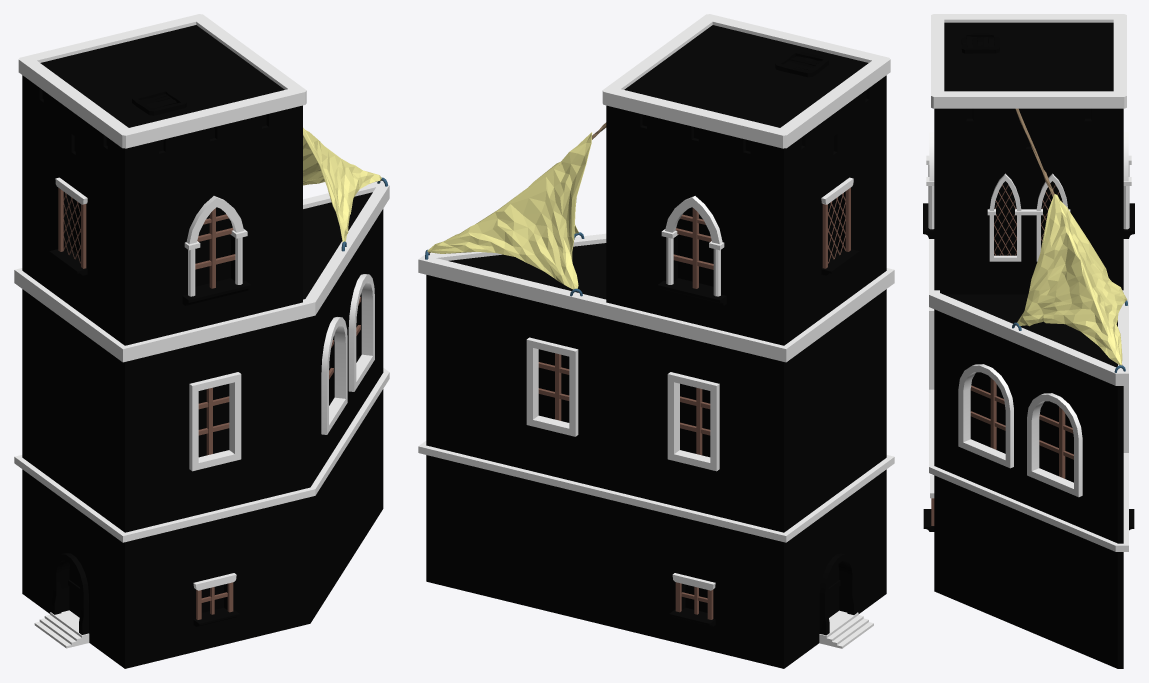
File: CivilianHouse01.fbx
The picture shows the model from 3 angles, left to right: view 1: azimuth 30°, elevation 25°; view 2: azimuth 150°, elevation 25°; view 3: azimuth 270°, elevation 25°; orthographic projection. The views are drawn at different scales.
Visible parts, largest first — view 1: civilian_house_02; view 2: civilian_house_02; view 3: civilian_house_02.
Boxes of the visible parts, left/top/right/bottom form: civilian_house_02: left=14, top=14, right=389, bottom=668; civilian_house_02: left=418, top=14, right=894, bottom=668; civilian_house_02: left=923, top=14, right=1134, bottom=668.
Size of the model in its own units: 1519 by 2017 by 784.
